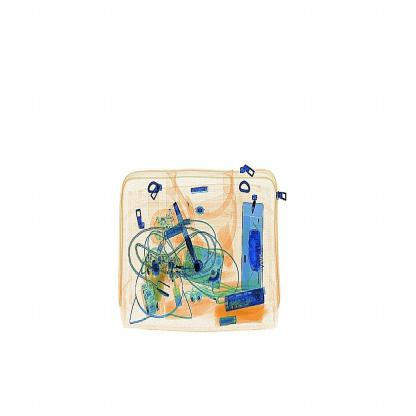scissors: (244, 222, 268, 279)
